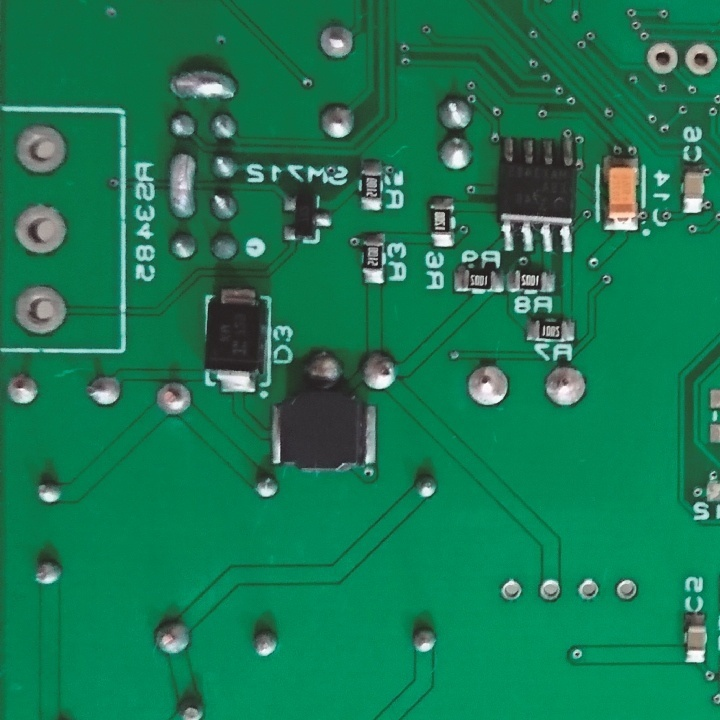F: (10, 120, 71, 181), (11, 200, 71, 260), (13, 279, 71, 340), (542, 361, 593, 416), (465, 358, 510, 412), (153, 378, 196, 420), (83, 372, 125, 411), (4, 371, 47, 409), (318, 22, 355, 66), (682, 39, 719, 78), (644, 38, 680, 77), (536, 576, 564, 606), (573, 575, 601, 604), (611, 576, 639, 605), (499, 579, 524, 603)
P: (163, 147, 200, 223), (164, 69, 241, 104)
